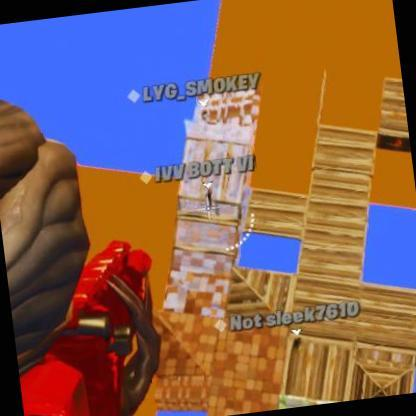person: (202, 181, 216, 208), (200, 108, 208, 121)
